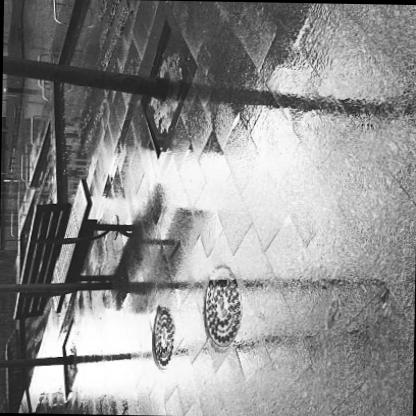manholes: (184, 257, 262, 358), (128, 298, 189, 374)
